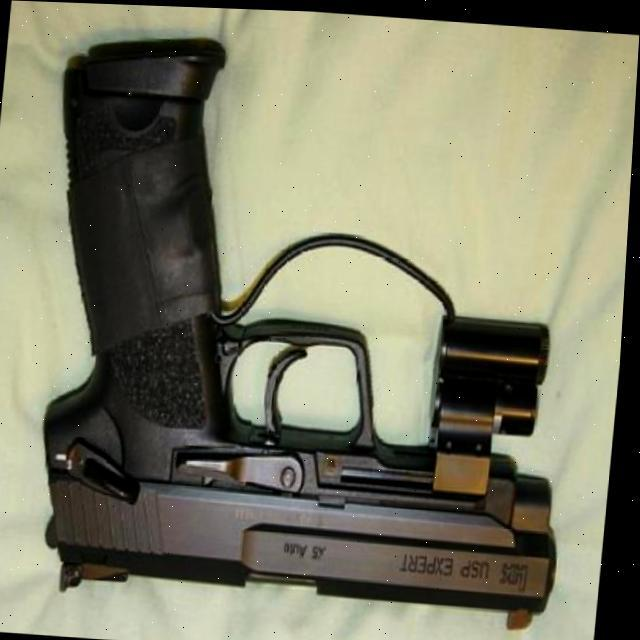gun: (19, 31, 606, 632)
